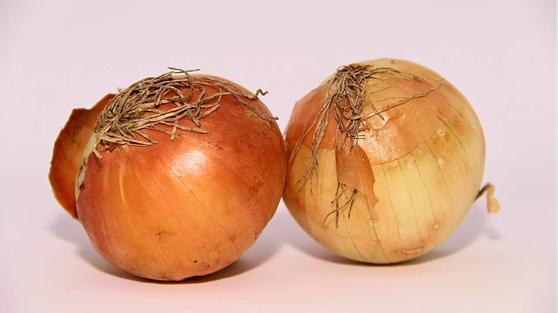onion: (39, 67, 301, 286), (277, 55, 495, 265)
